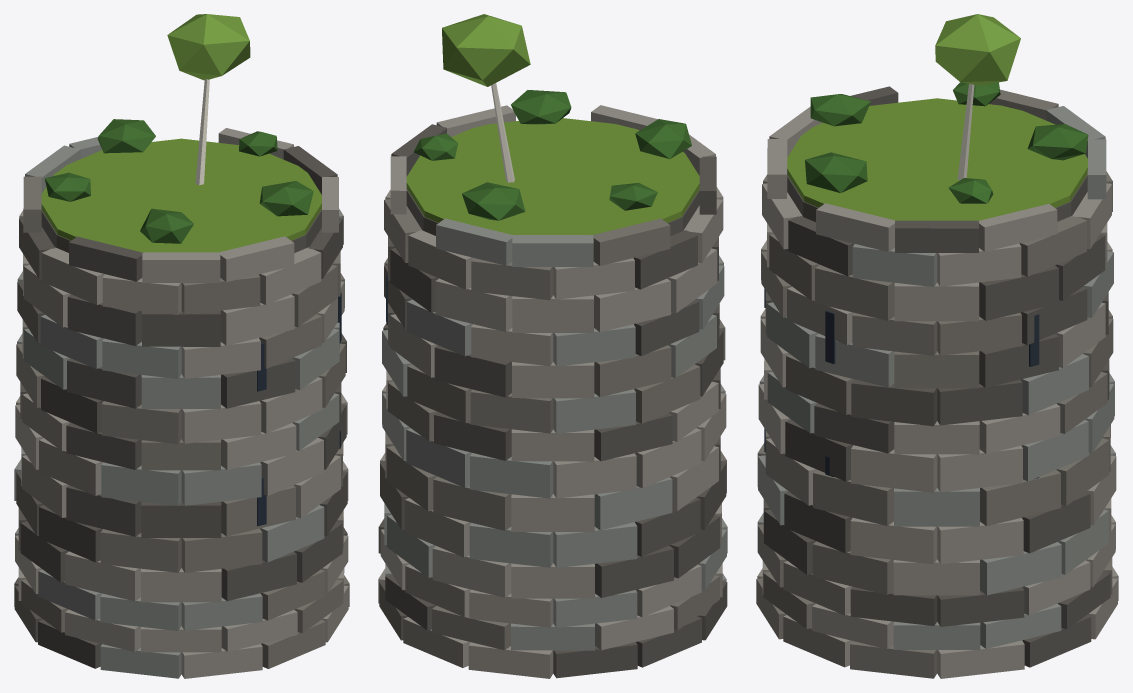
The model's file is forest_fort_tower.glb.
The picture shows the model from 3 angles, left to right: view 1: azimuth 30°, elevation 25°; view 2: azimuth 150°, elevation 25°; view 3: azimuth 270°, elevation 25°; orthographic projection. The views are drawn at different scales.
Visible parts, largest first — view 1: forest_fort_tower; view 2: forest_fort_tower; view 3: forest_fort_tower.
Boxes of the visible parts, x1,y1,x2,y2 form: forest_fort_tower: (14, 14, 349, 678); forest_fort_tower: (378, 14, 727, 678); forest_fort_tower: (756, 14, 1118, 678).
Size of the model in its own units: 5.88 by 11.01 by 5.9.
